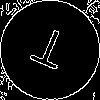T: (25, 25, 71, 79)
